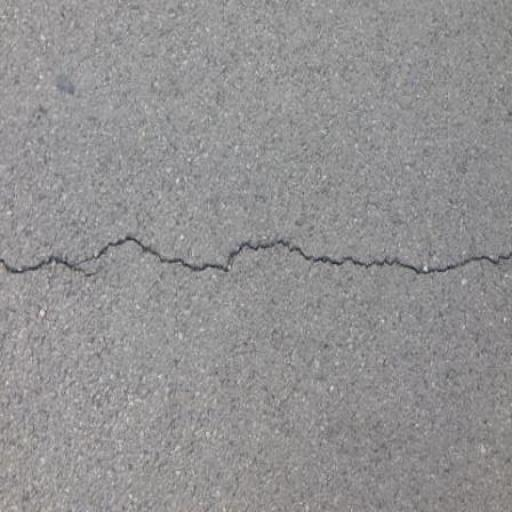spalling: (9, 211, 506, 295)
